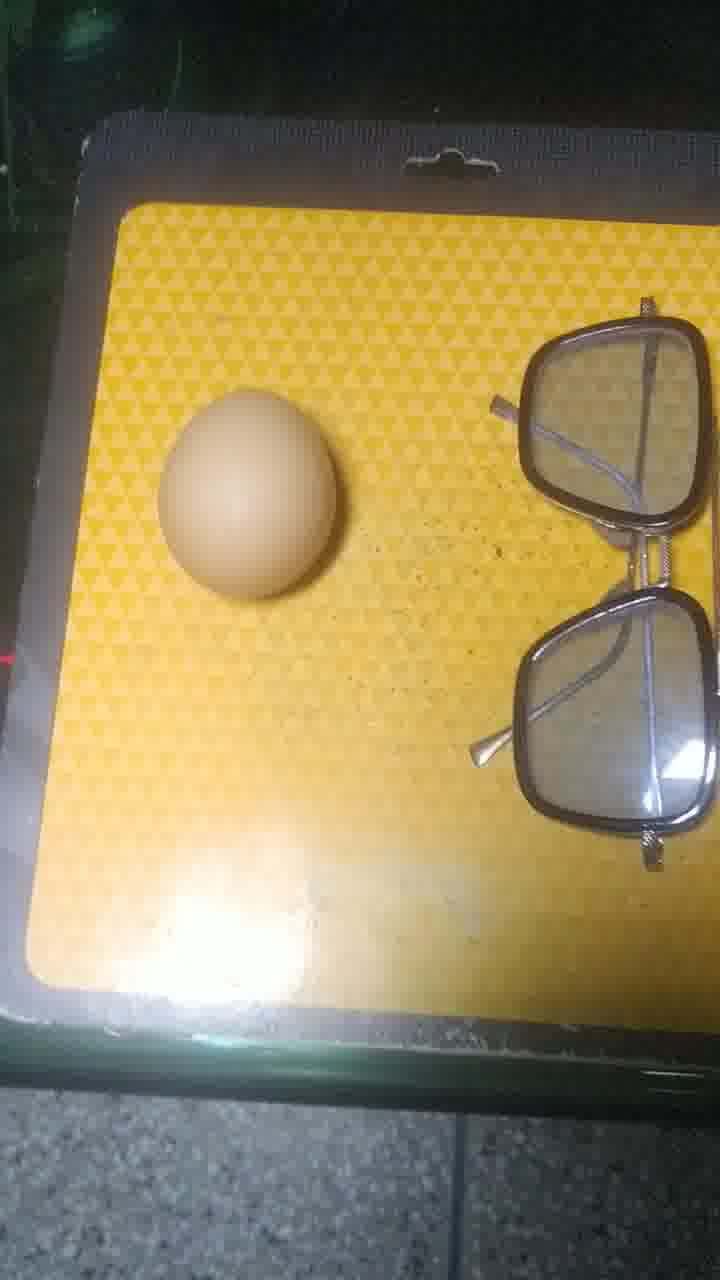egg: (146, 384, 357, 607)
sunglass: (477, 301, 720, 882)
